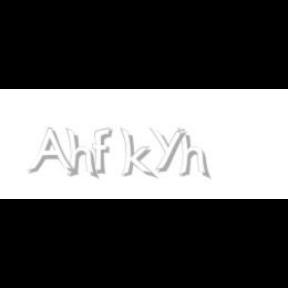A: (27, 128, 75, 176)
f: (92, 128, 116, 174)
h: (65, 128, 100, 180), (178, 128, 212, 180)
k: (119, 128, 157, 180)
y: (149, 128, 189, 172)
